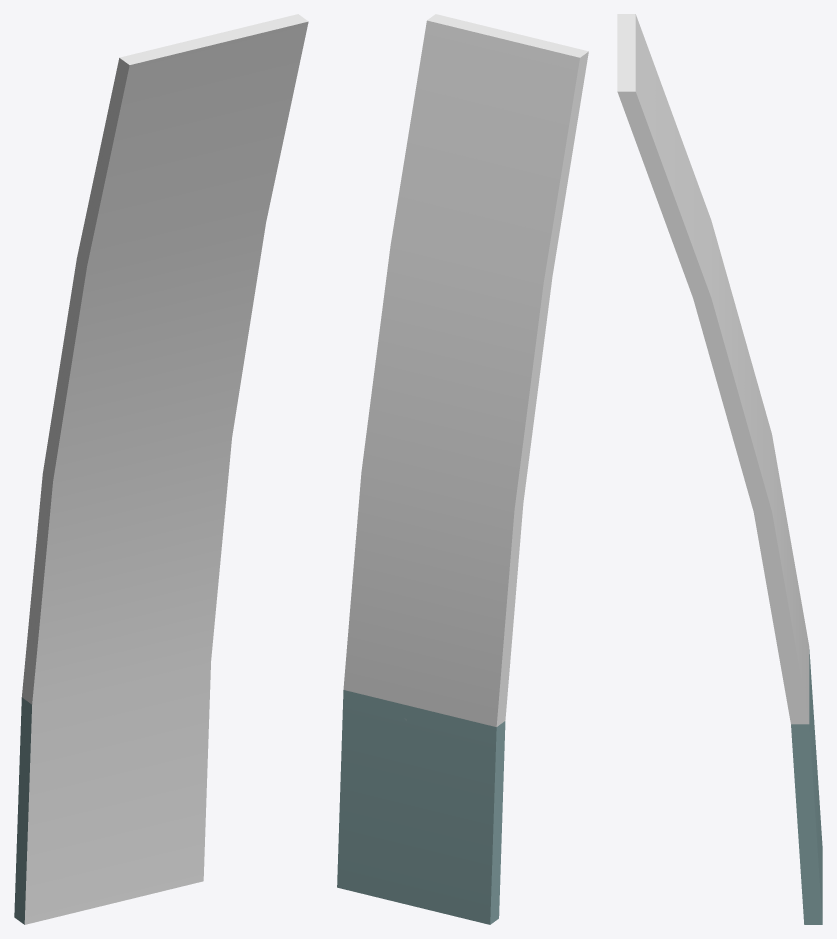
File: wall_1m.fbx
3 renders of one model, left to right at view 1: azimuth 30°, elevation 25°; view 2: azimuth 150°, elevation 25°; view 3: azimuth 270°, elevation 25°, orthographic. The views are drawn at different scales.
Parts seen in each view (by area): view 1: wall_1m; view 2: wall_1m; view 3: wall_1m.
Boxes of the visible parts, <box> form: wall_1m: <box>14,14,308,924</box>; wall_1m: <box>337,14,588,924</box>; wall_1m: <box>617,14,822,924</box>.
Size of the model in its own units: 100 by 500 by 112.
